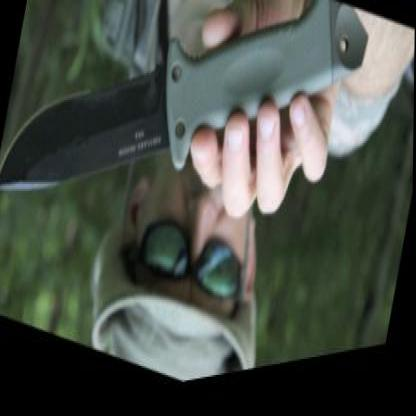knife: (0, 0, 379, 393)
